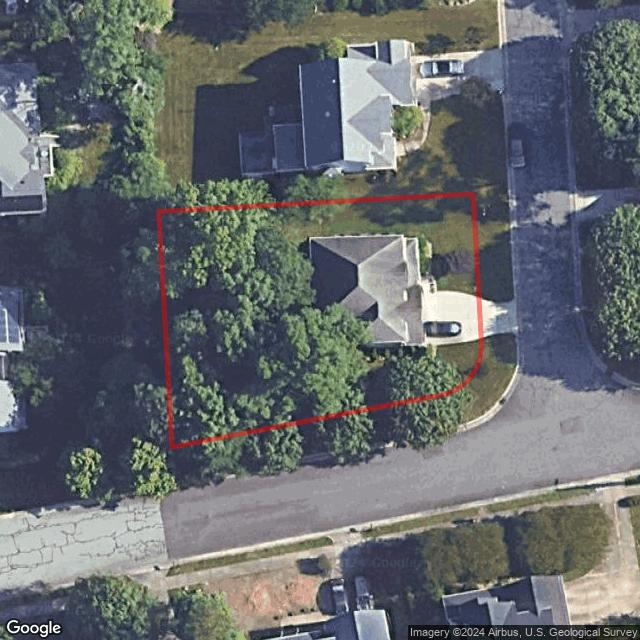Driveway: (422, 292, 482, 345)
Extra-Driveway: (480, 299, 515, 337)
Extra-Lawn: (170, 332, 517, 480), (473, 192, 513, 302)
House: (308, 234, 425, 349)
Lawn: (159, 193, 481, 447)
Other: (401, 232, 436, 291), (422, 276, 431, 292)
